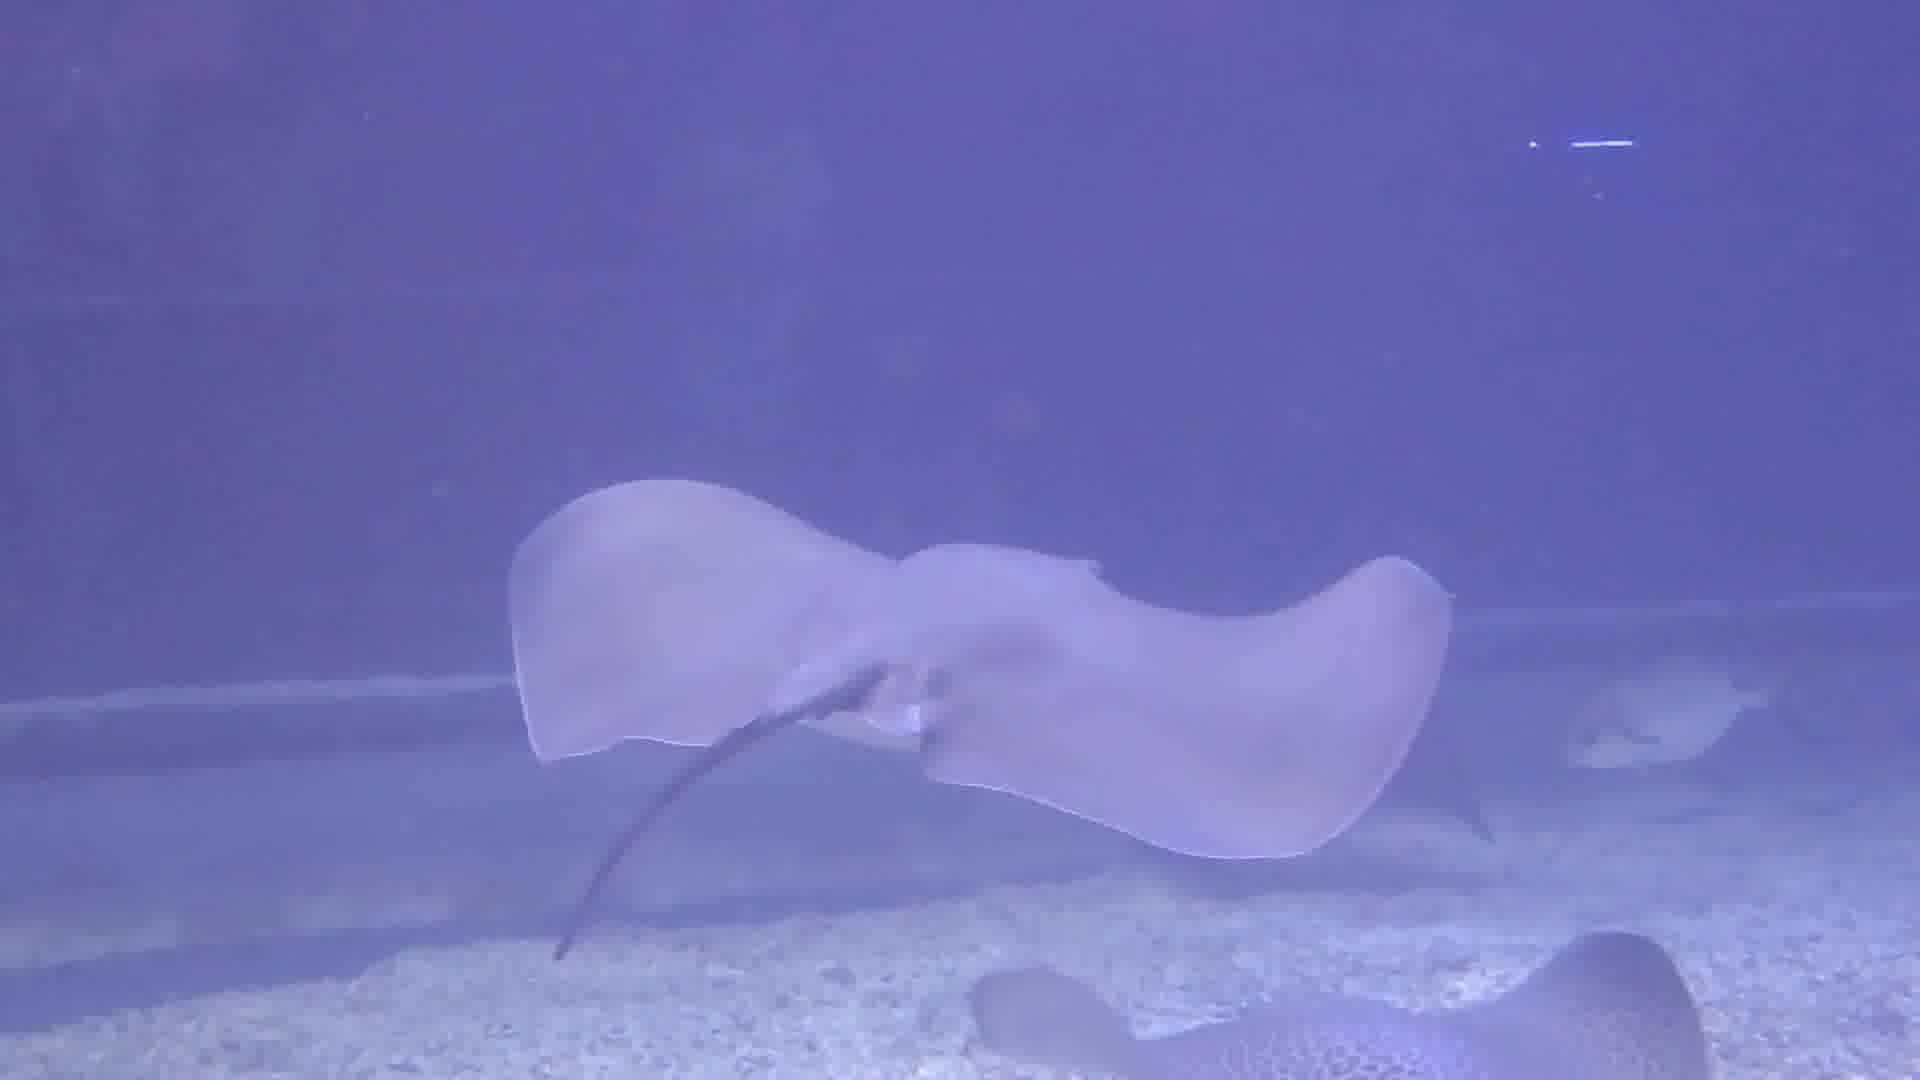Dasyatis akajei: (456, 465, 1466, 994)
